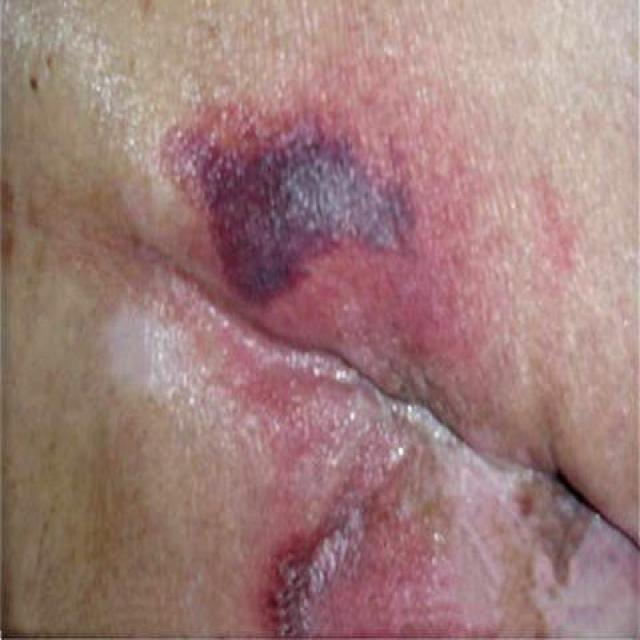DTI: (158, 124, 426, 308), (252, 464, 405, 639)
